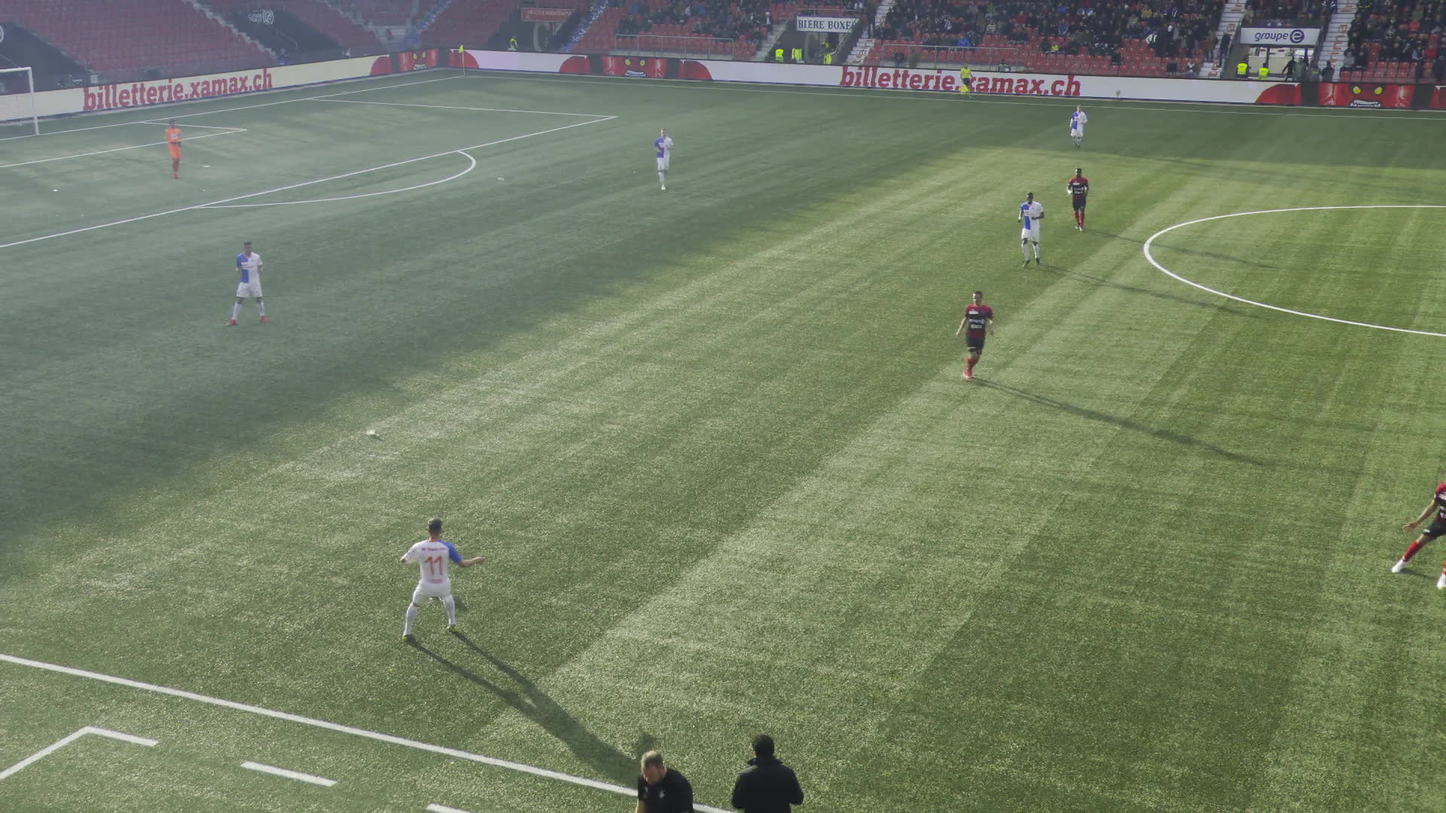ball: (432, 596, 438, 599)
player: (395, 515, 488, 638), (1390, 473, 1445, 589), (952, 290, 993, 384), (224, 242, 267, 326), (1017, 191, 1044, 266), (1065, 166, 1089, 231), (651, 127, 671, 187), (164, 119, 182, 178), (1069, 102, 1088, 146)
referee: (959, 61, 974, 99)
